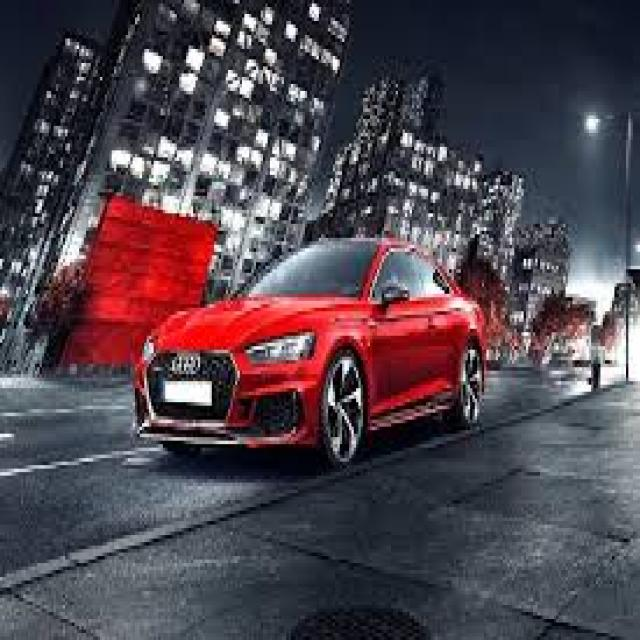Car: (136, 240, 485, 465)
